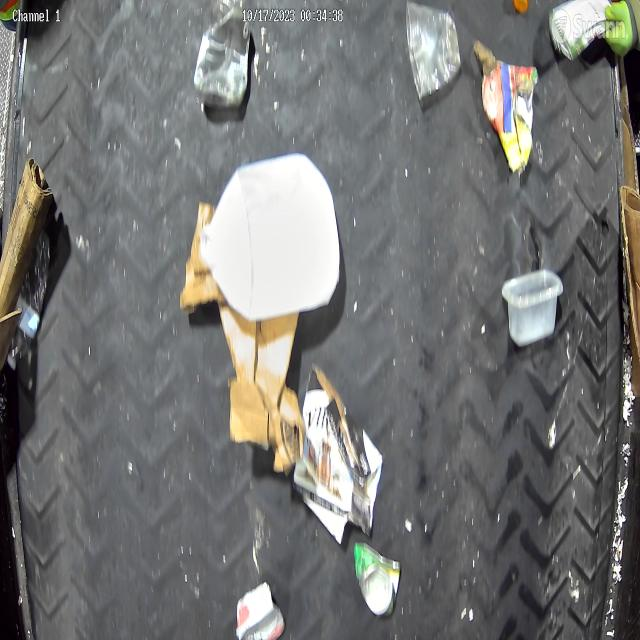can: (353, 540, 400, 620)
milk_jug: (202, 152, 342, 321)
plastic_bottle: (8, 231, 50, 370)
